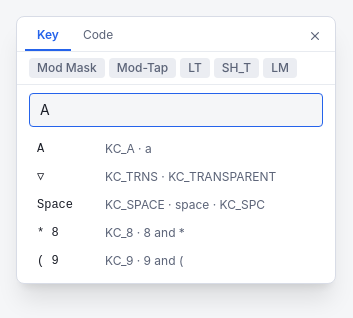
KeyPopover › switches to Code tab
Click the button with test id "popover-tab-code" at (98, 36), box x1=71 y1=21 x2=125 y2=51
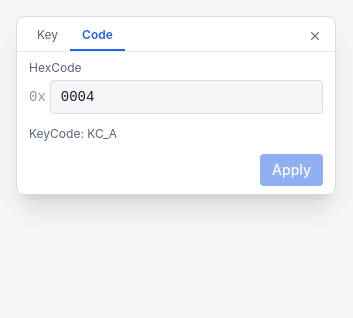
Expected: the field with test id "popover-hex-input" is shown, x1=50 y1=80 x2=323 y2=114
